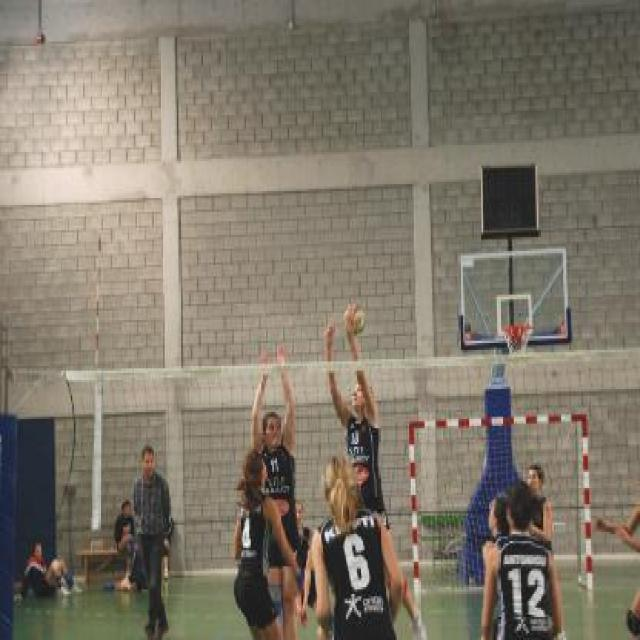volleyball: (352, 306, 367, 334)
